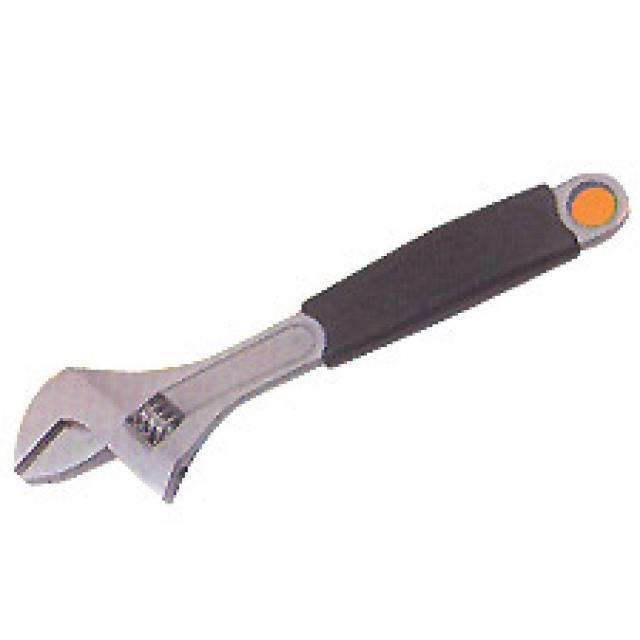wrench: (6, 165, 640, 514)
